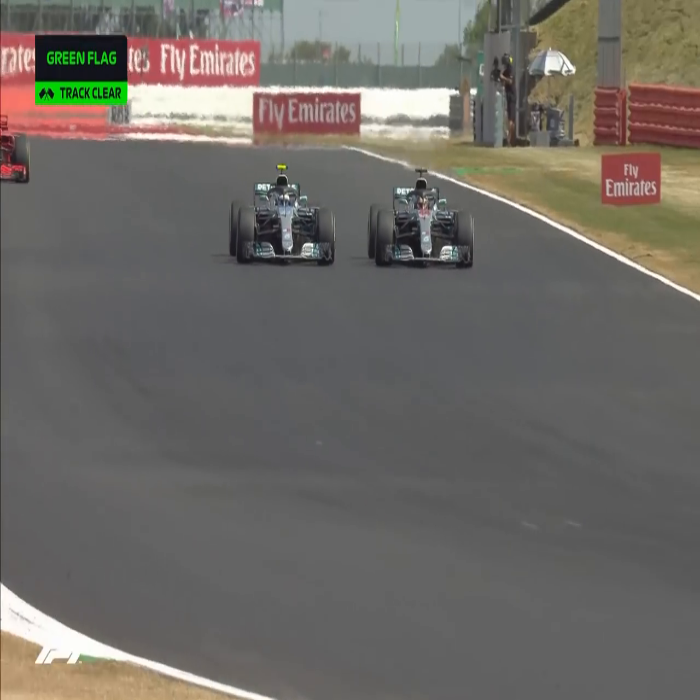f1_car: (358, 160, 485, 283), (222, 159, 344, 275)
